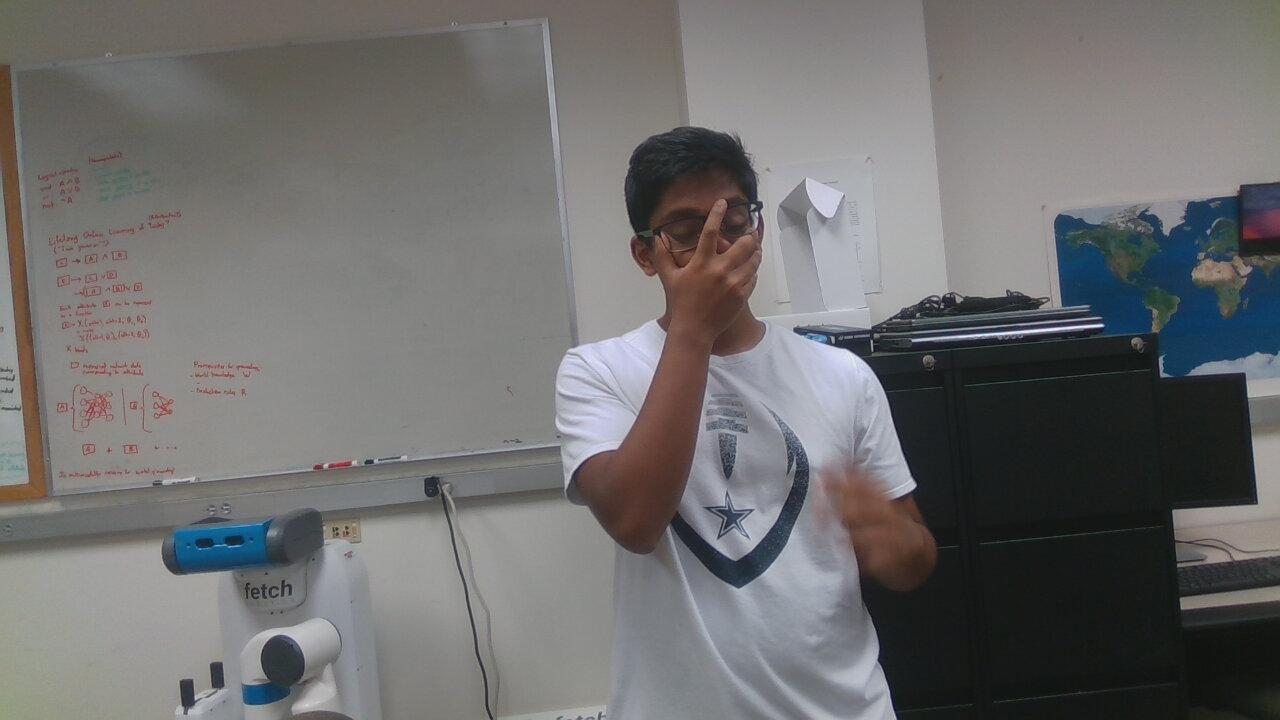hands: (638, 186, 788, 317)
